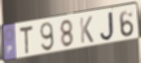6: (119, 9, 135, 38)
8: (59, 19, 75, 49)
9: (38, 22, 55, 53)
J: (99, 10, 115, 43)
K: (79, 16, 95, 45)
T: (18, 24, 34, 56)
